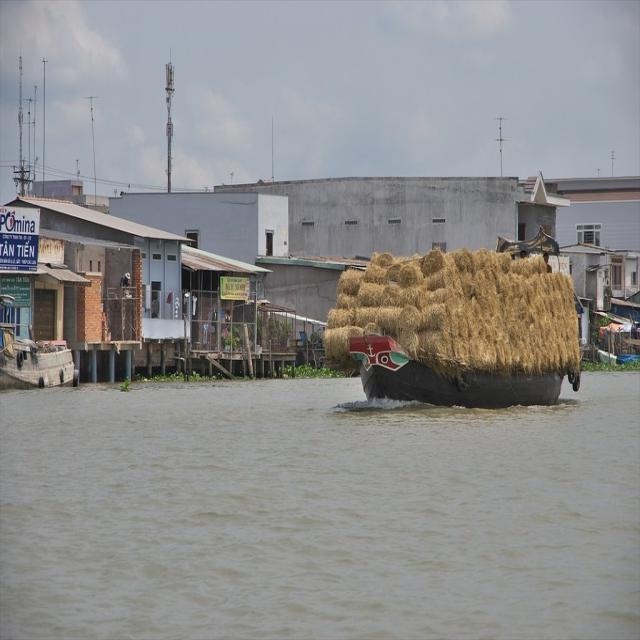Hyacinth: (290, 349, 338, 383)
boat: (346, 332, 552, 404)
